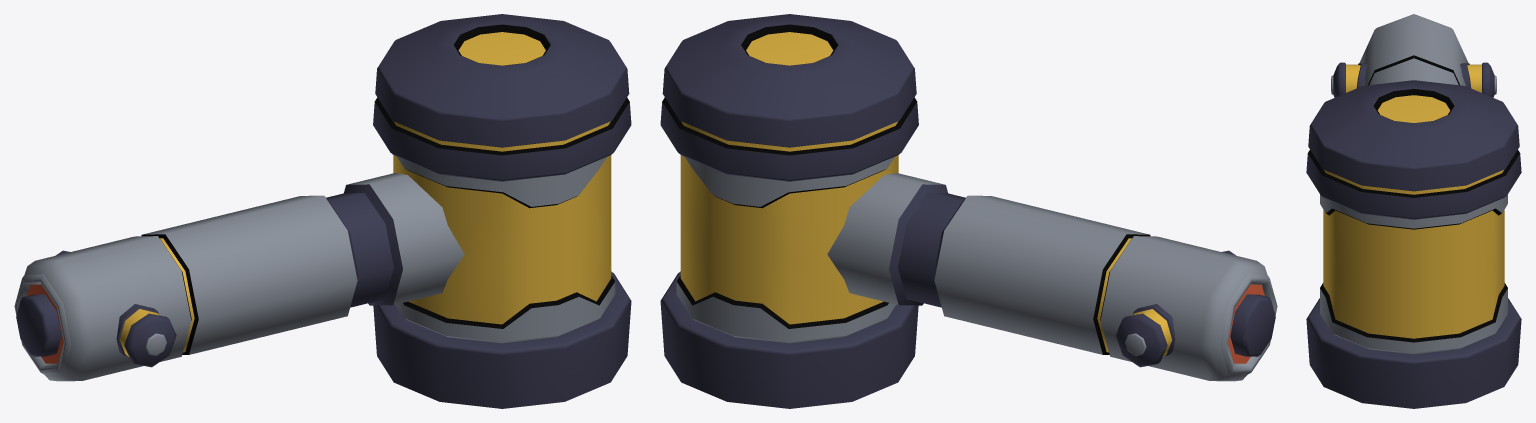
The model's file is Level20_Rotator_object.fbx.
3 renders of one model, left to right at view 1: azimuth 30°, elevation 25°; view 2: azimuth 150°, elevation 25°; view 3: azimuth 270°, elevation 25°, orthographic. The views are drawn at different scales.
Visible parts, largest first — view 1: pCylinder13, pCylinder14, pCylinder15; view 2: pCylinder13, pCylinder14, pCylinder15; view 3: pCylinder13, pCylinder14, pCylinder15 (×2).
Boxes of the visible parts, <box> form: pCylinder13: <box>373,14,631,408</box>; pCylinder14: <box>14,173,464,381</box>; pCylinder15: <box>116,304,176,367</box>; pCylinder13: <box>660,14,918,408</box>; pCylinder14: <box>827,173,1277,381</box>; pCylinder15: <box>1115,304,1175,367</box>; pCylinder13: <box>1306,80,1521,408</box>; pCylinder14: <box>1359,14,1468,85</box>; pCylinder15 (×2): <box>1331,62,1496,97</box>.
Bounding box in the file's own units: 63.28 × 32.19 × 24.25.
